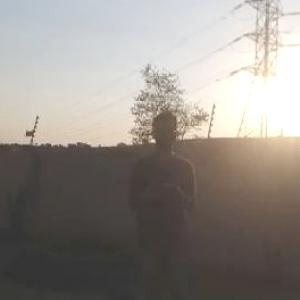follow: (124, 103, 202, 299)
